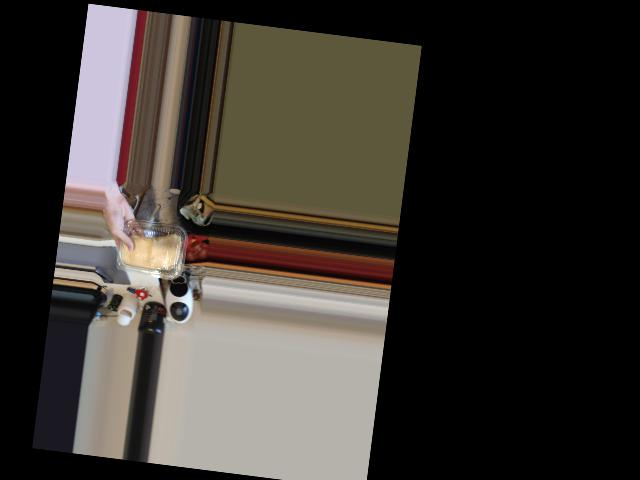cheese: (116, 214, 184, 285)
